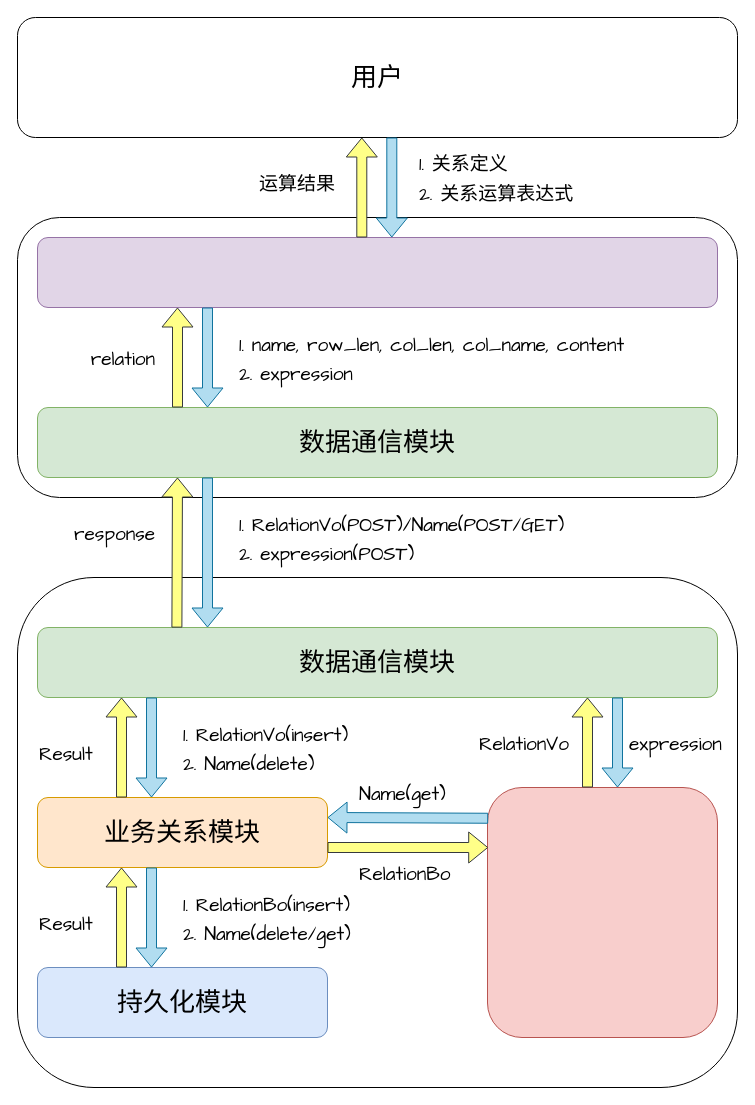
This 755x1105 diagram has some shape labels left out. Here are the shapes that lost their labels. From the top down, the box of each, then its label:
(36, 236, 718, 308): 用户交互模块
(486, 786, 718, 1038): 代数运算模块
